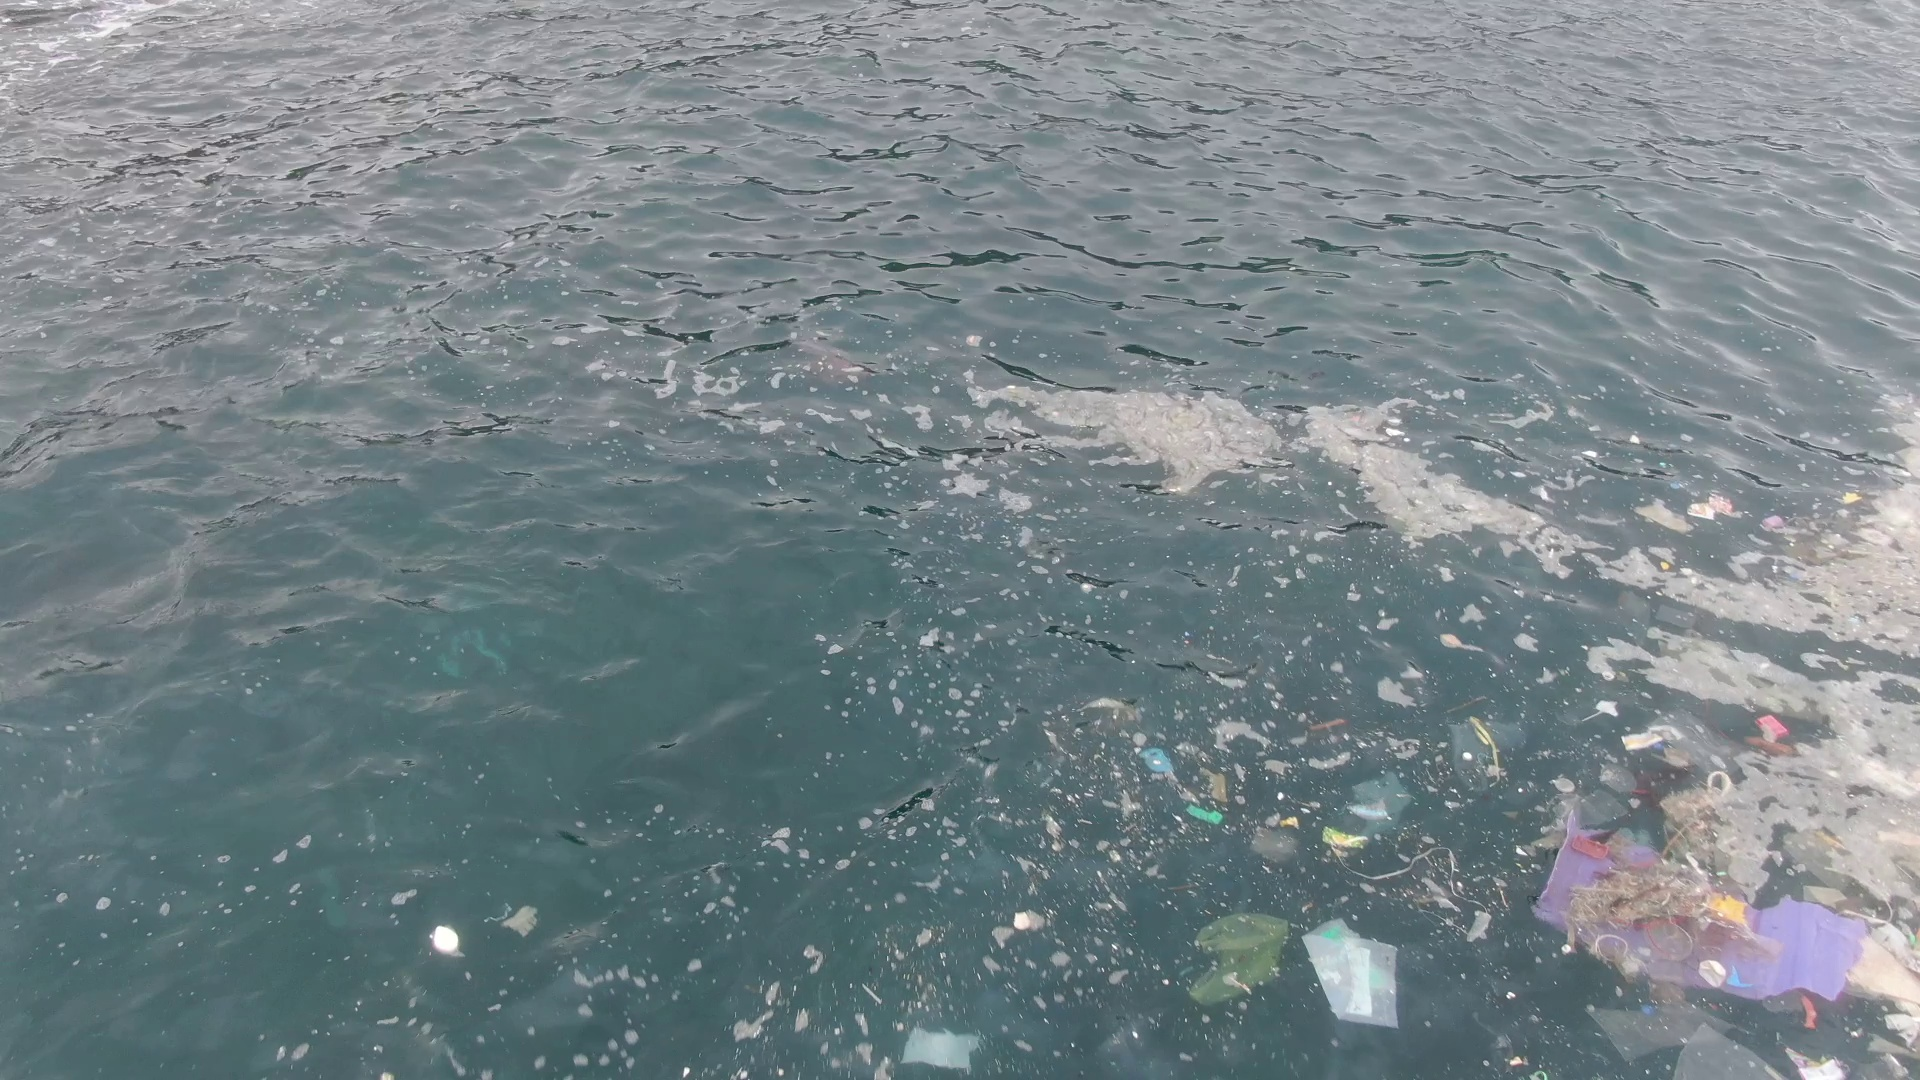garbage: (1542, 800, 1920, 1077), (1309, 916, 1403, 1029), (1192, 914, 1284, 1005), (1142, 744, 1226, 832), (1335, 778, 1410, 853), (1451, 713, 1528, 781), (901, 1030, 982, 1069), (1745, 712, 1792, 760), (1689, 495, 1742, 526), (429, 923, 462, 955)
